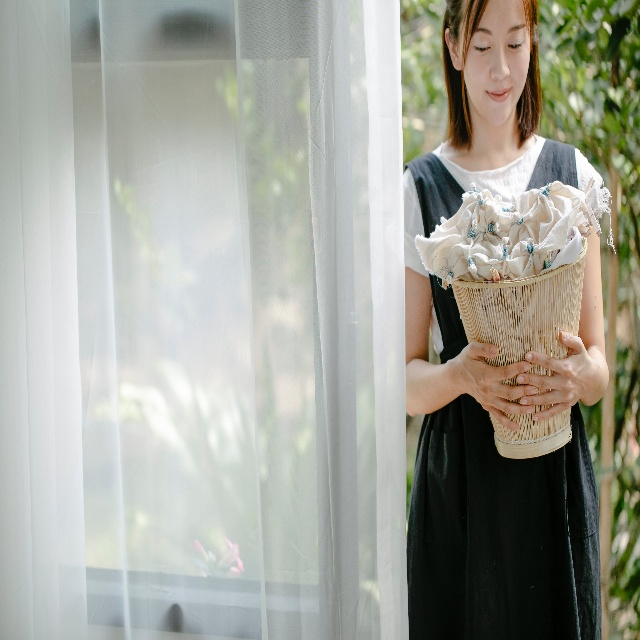Sin_guantes: (458, 337, 539, 432), (516, 322, 590, 422)
